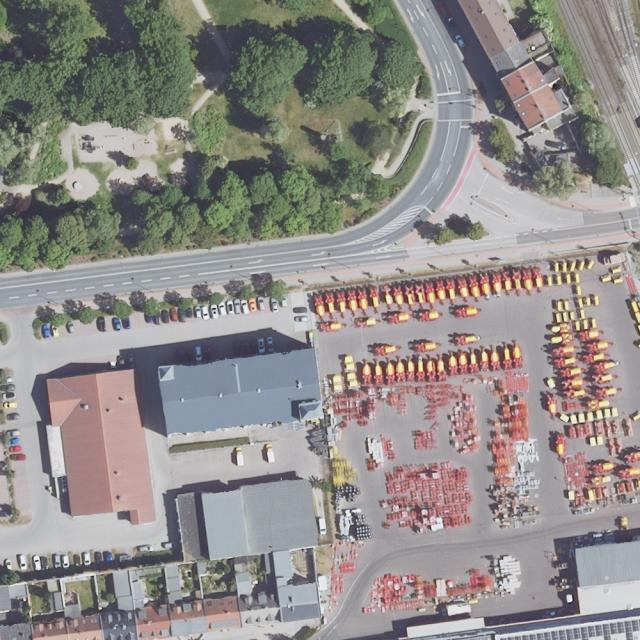PV: (500, 619, 640, 640)
